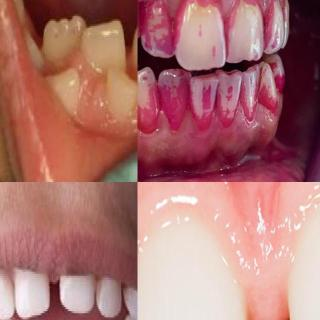maligned: (41, 8, 85, 64), (92, 11, 128, 71), (138, 65, 164, 134), (47, 67, 85, 113), (105, 67, 137, 117), (127, 16, 137, 70)
